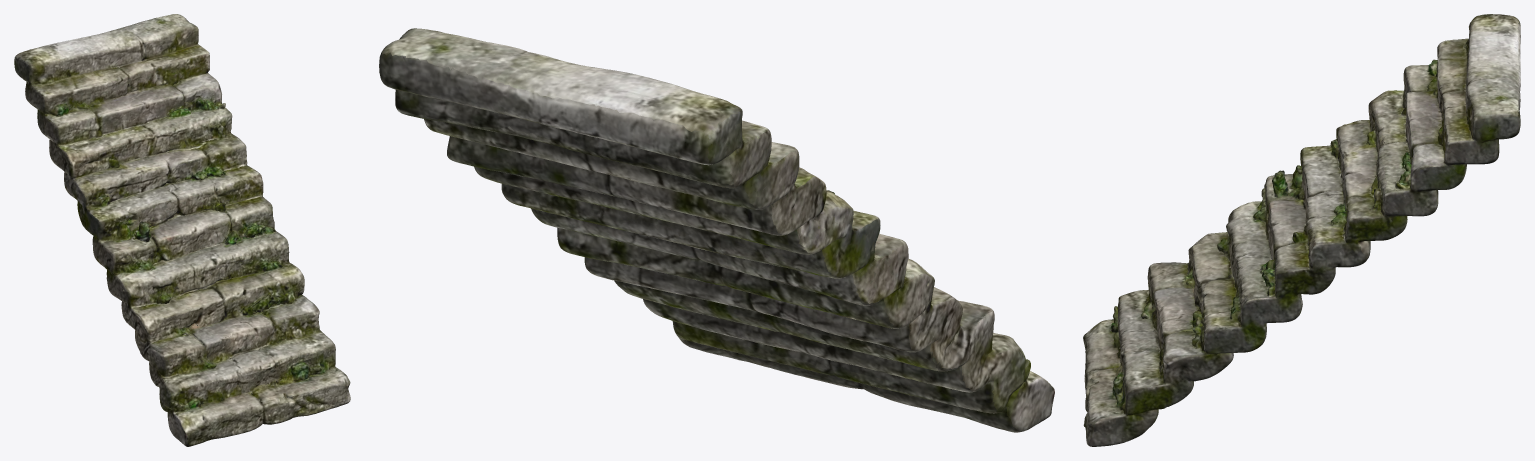
The model's file is stone-steps.glb.
3 views of the same model, side by side, from view 1: azimuth 30°, elevation 25°; view 2: azimuth 150°, elevation 25°; view 3: azimuth 270°, elevation 25° (orthographic). The views are drawn at different scales.
Visible parts, largest first — view 1: geometry_0; view 2: geometry_0; view 3: geometry_0.
Part boxes in pixels (<box>): geometry_0: <box>14,14,350,446</box>; geometry_0: <box>379,28,1054,432</box>; geometry_0: <box>1083,14,1520,446</box>.
Bounding box in the file's own units: 4.5 × 6.87 × 8.01.
Materials: 1 (1 with a texture image).
